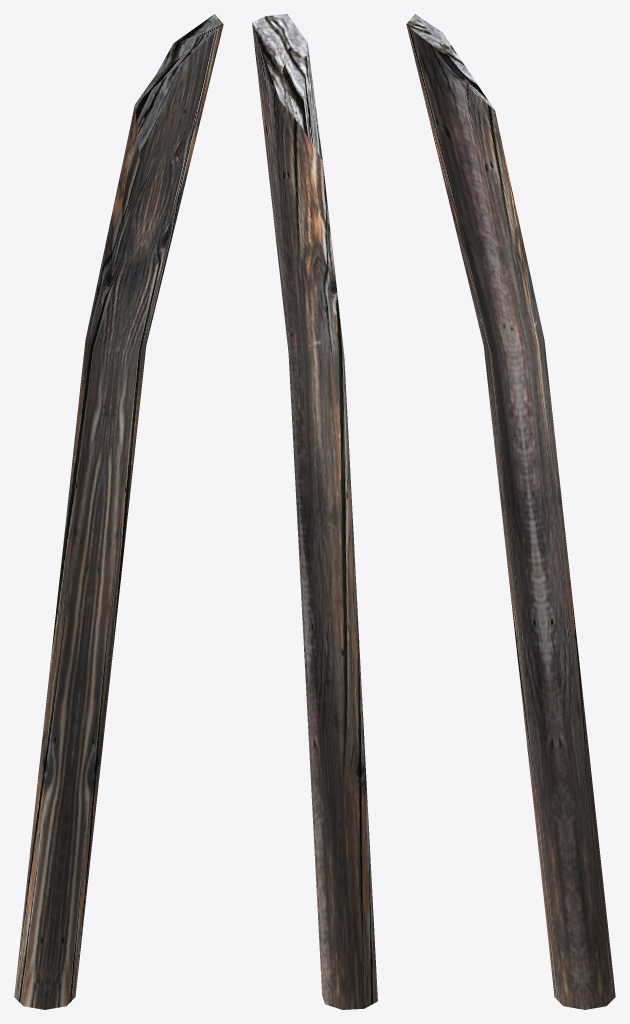
Rendered from pole_broken_02.fbx.
3 renders of one model, left to right at view 1: azimuth 90°, elevation 25°; view 2: azimuth 210°, elevation 25°; view 3: azimuth 270°, elevation 25°, orthographic. The views are drawn at different scales.
Visible parts, largest first — view 1: pole_broken_02; view 2: pole_broken_02; view 3: pole_broken_02.
Boxes of the visible parts, box(x1,y1,x2,y2) form: pole_broken_02: box(14, 14, 223, 1009); pole_broken_02: box(252, 14, 377, 1009); pole_broken_02: box(406, 14, 615, 1009).
Bounding box in the file's own units: 0.3198 × 5.62 × 1.09.
